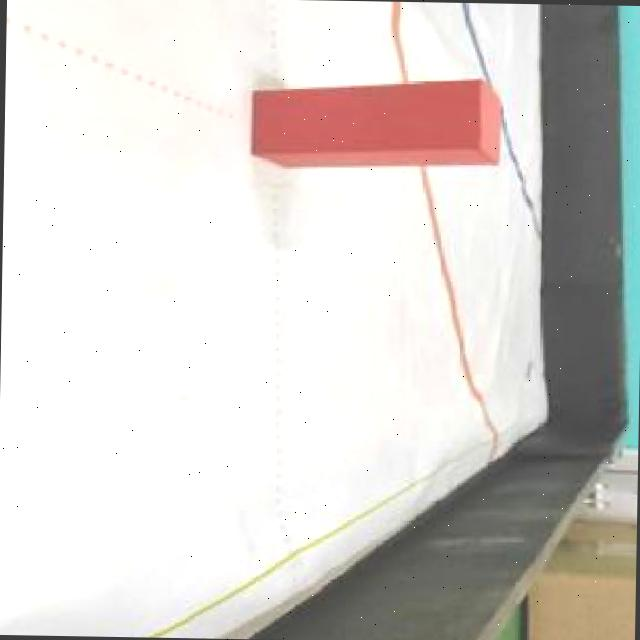redbox: (246, 73, 504, 173)
